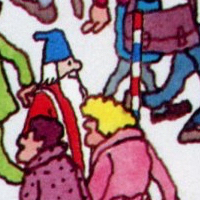wb: (35, 26, 82, 90)
